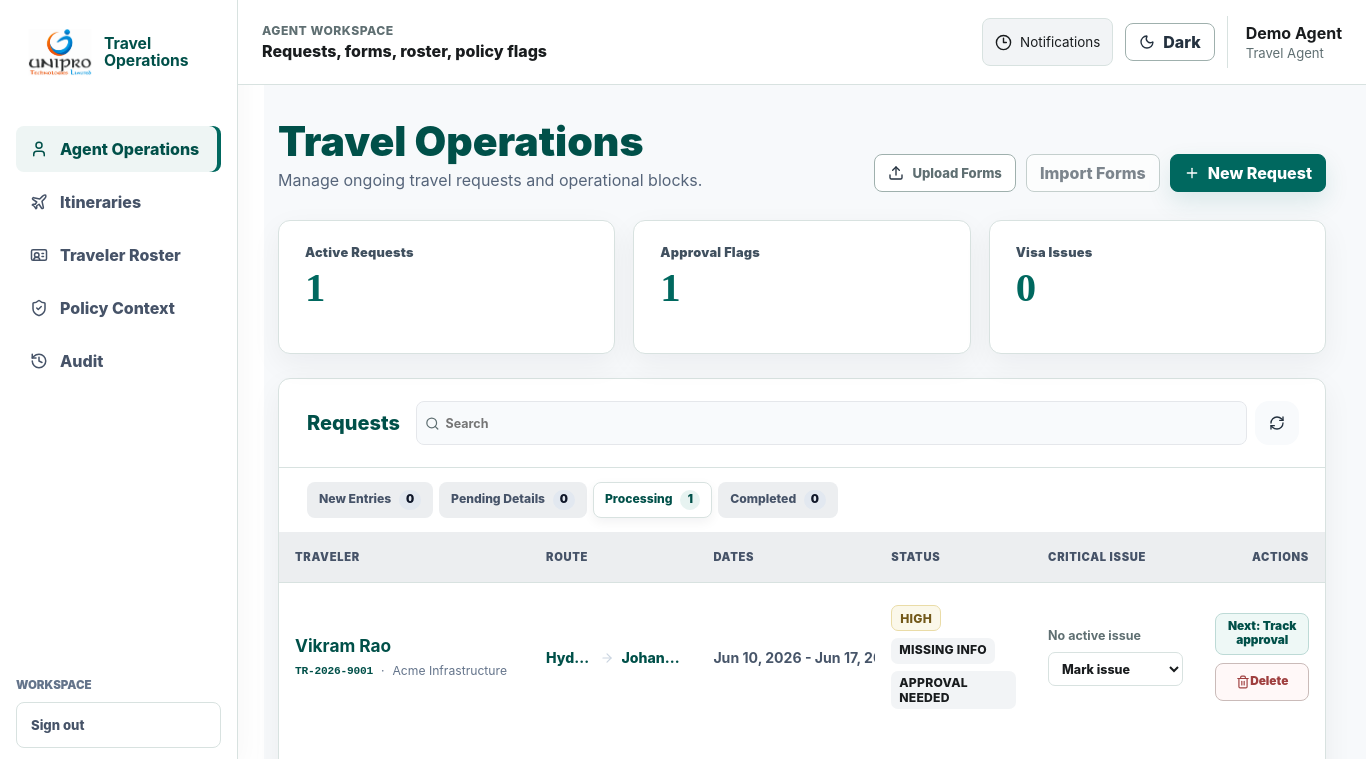
Test: AI Corporate Travel Planning Assistant MVP › uses contextual guided commands without claiming a booking
Click the button with aria-label "TR-2026-9001" at (1262, 634), box [1216,614,1309,655]
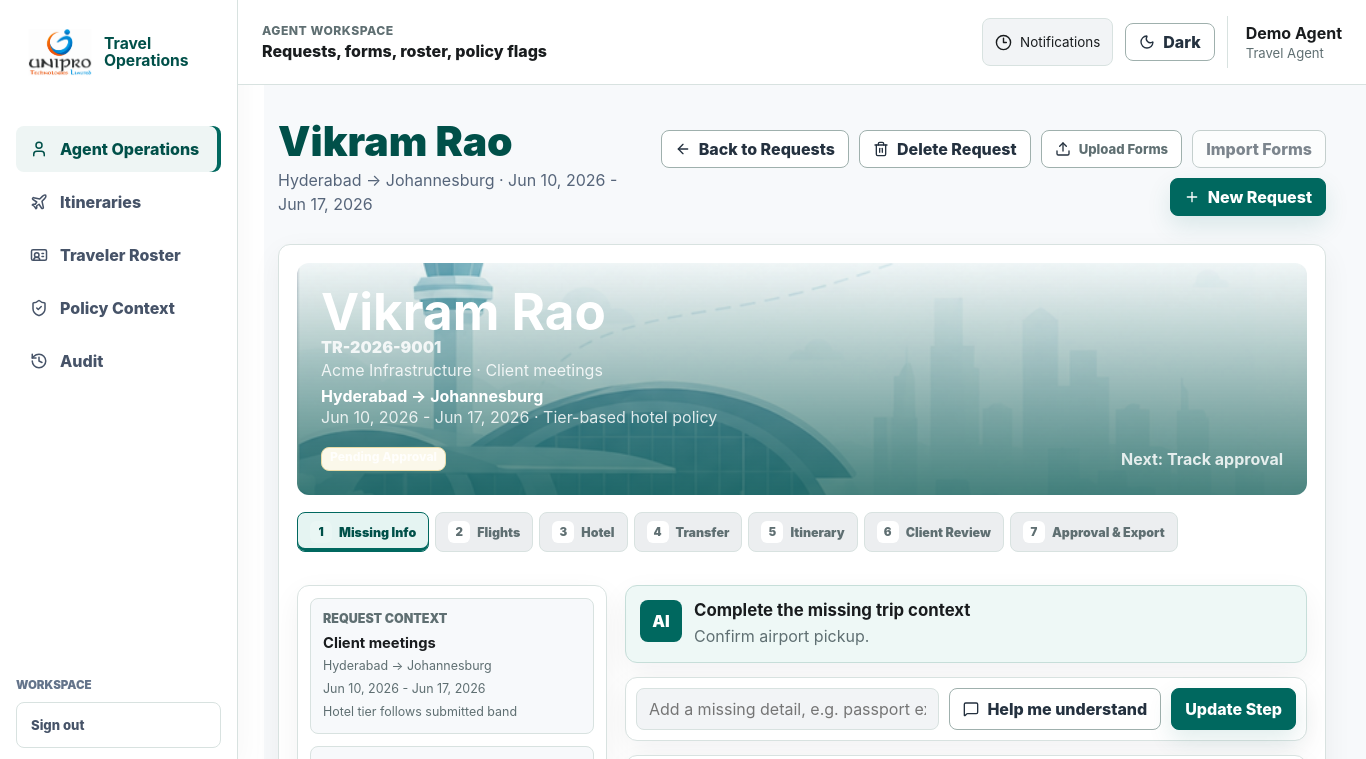
Click the button "2 Flights" at (484, 532), box [435,512,533,552]
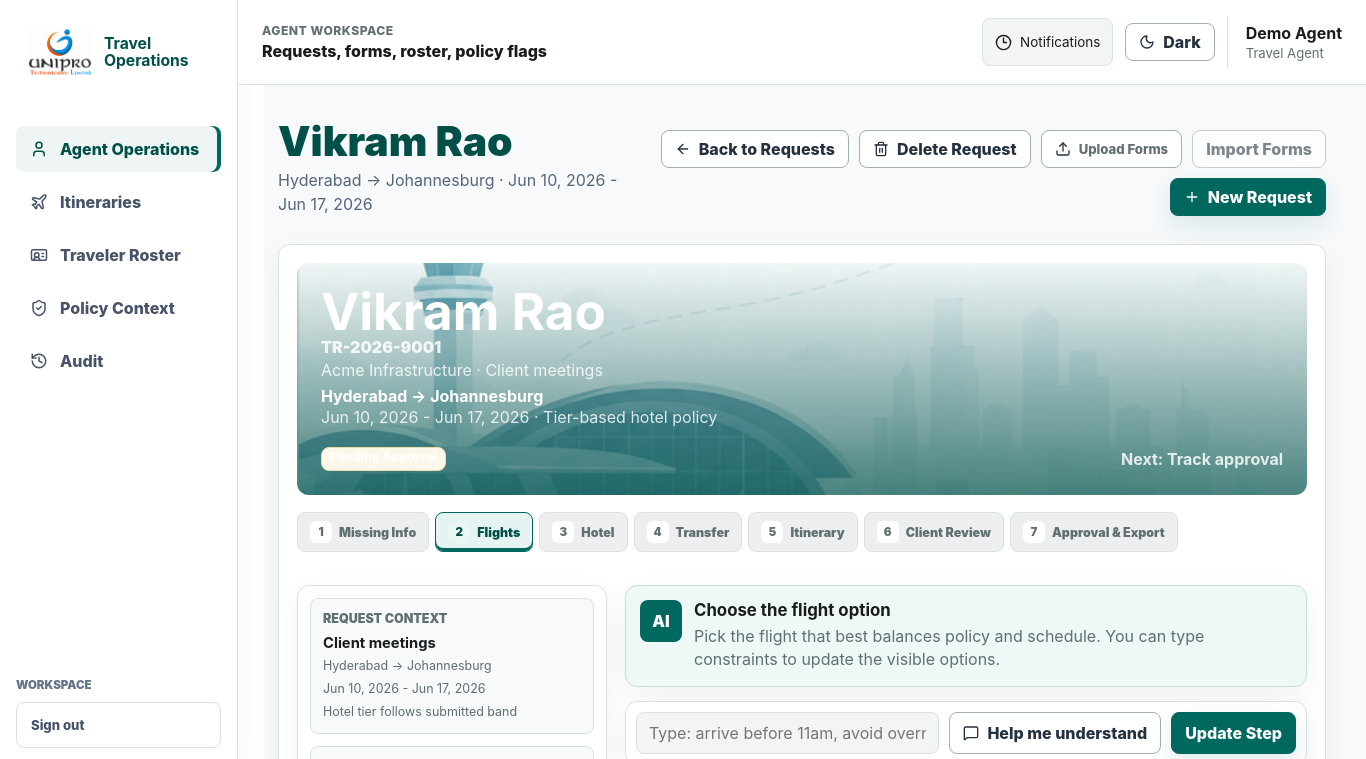
Replace the text in the field named "Guide command for Flights" with "Compare policy-compliant options" at (788, 733), box [636,712,939,754]
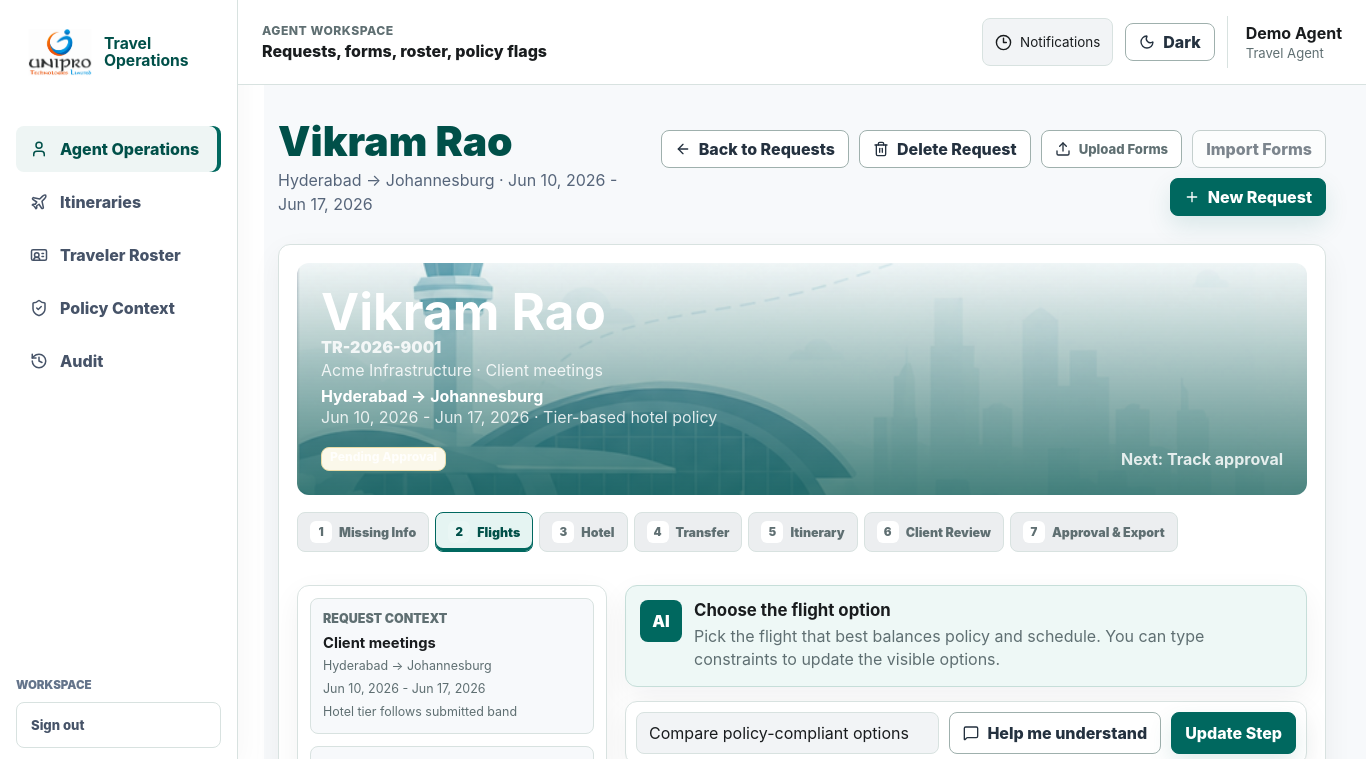
Click the button "Update Step" at (1234, 733), box [1171,712,1296,754]
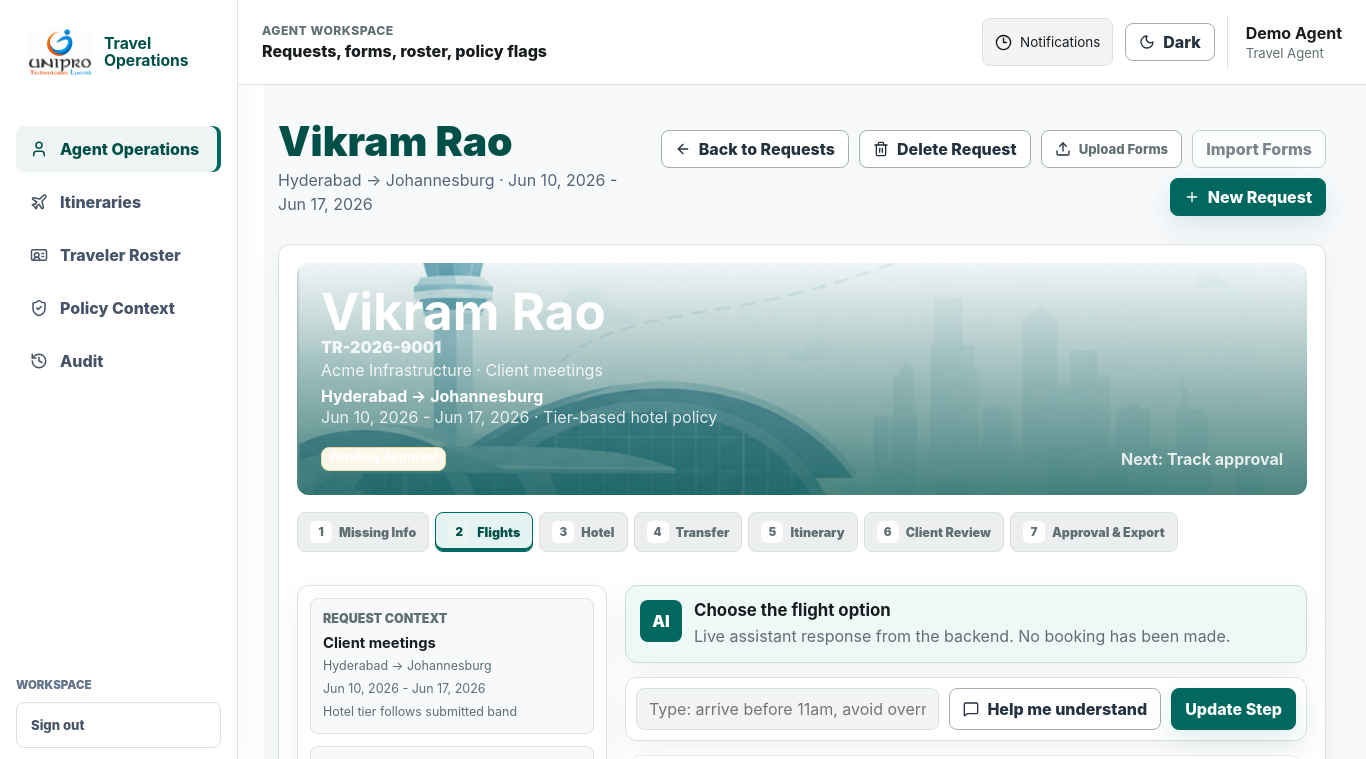
Result: the text "Live assistant response from the backend" is shown at [694,626,1230,646]
